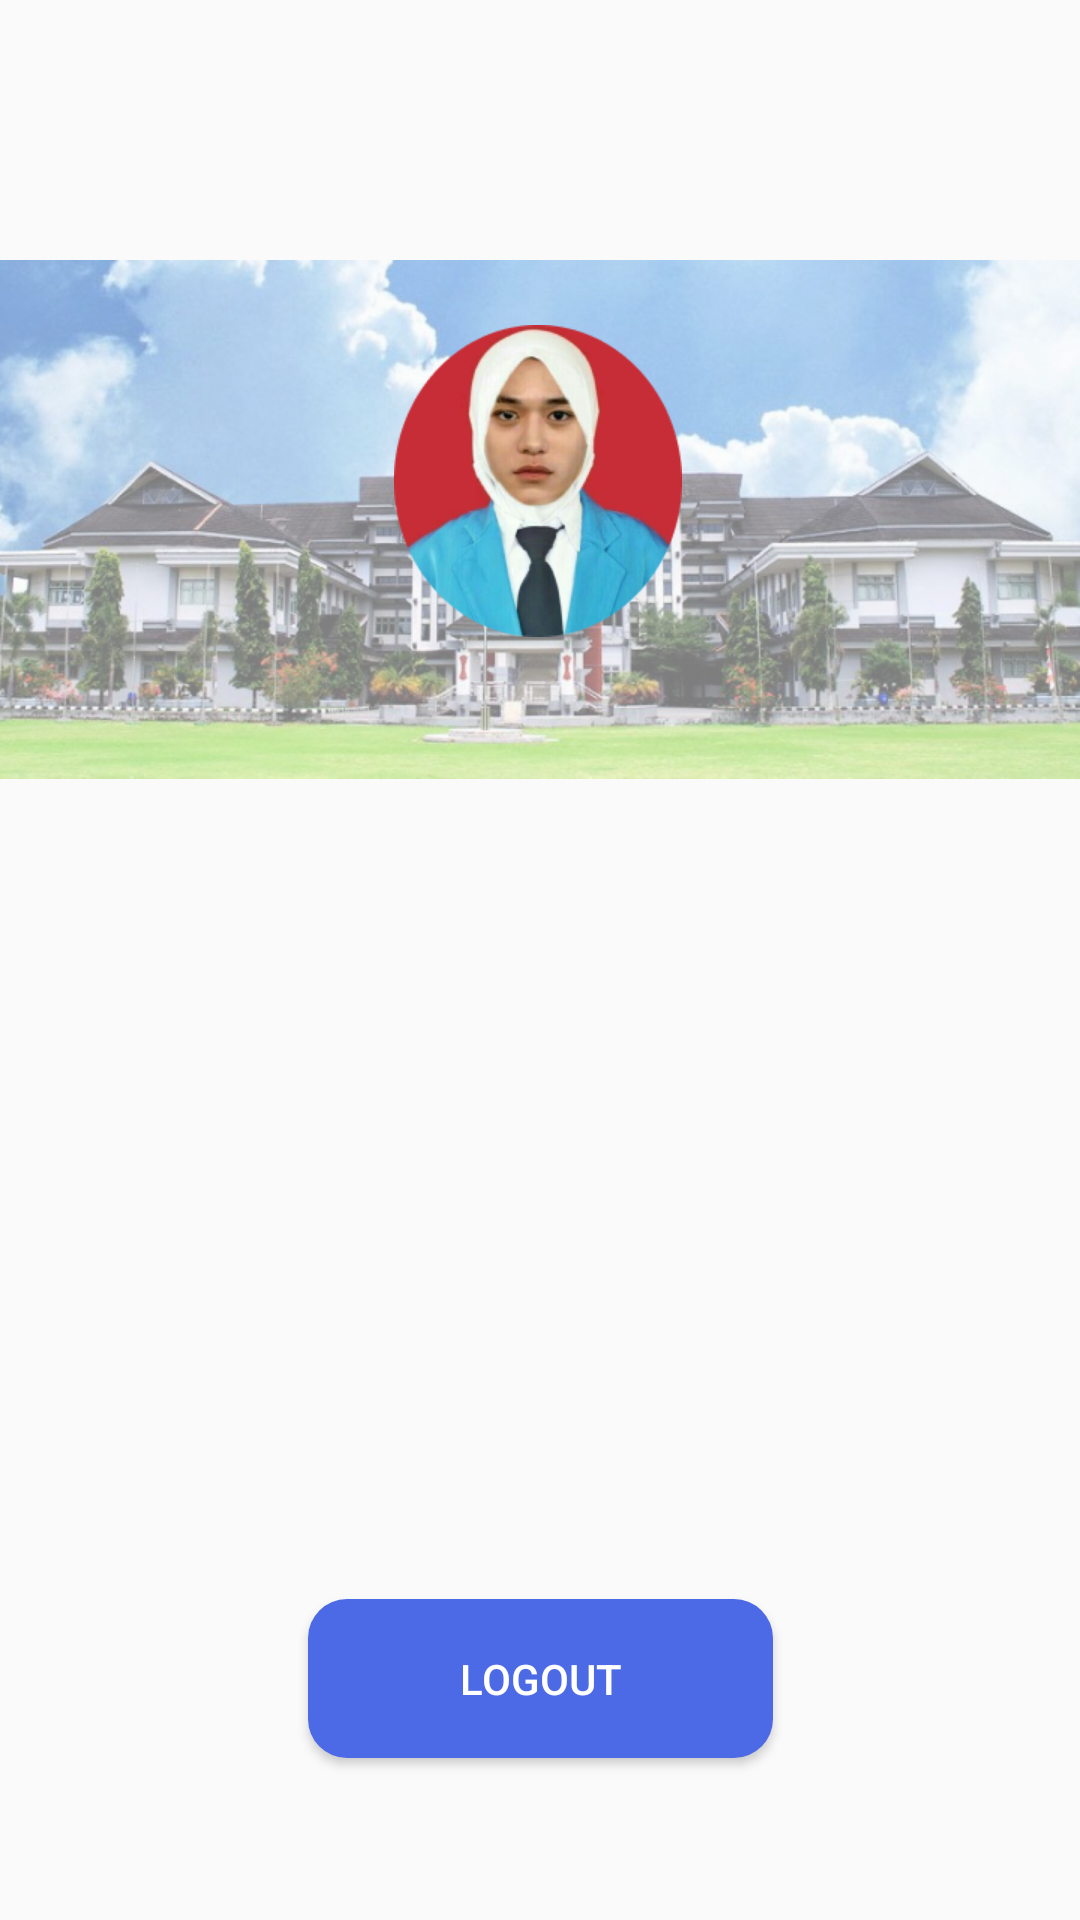

Icons on this 1080*1920 Android screen, each with the point to tap as point (x, y):
imgprofilakunsaya: point (538, 481)
